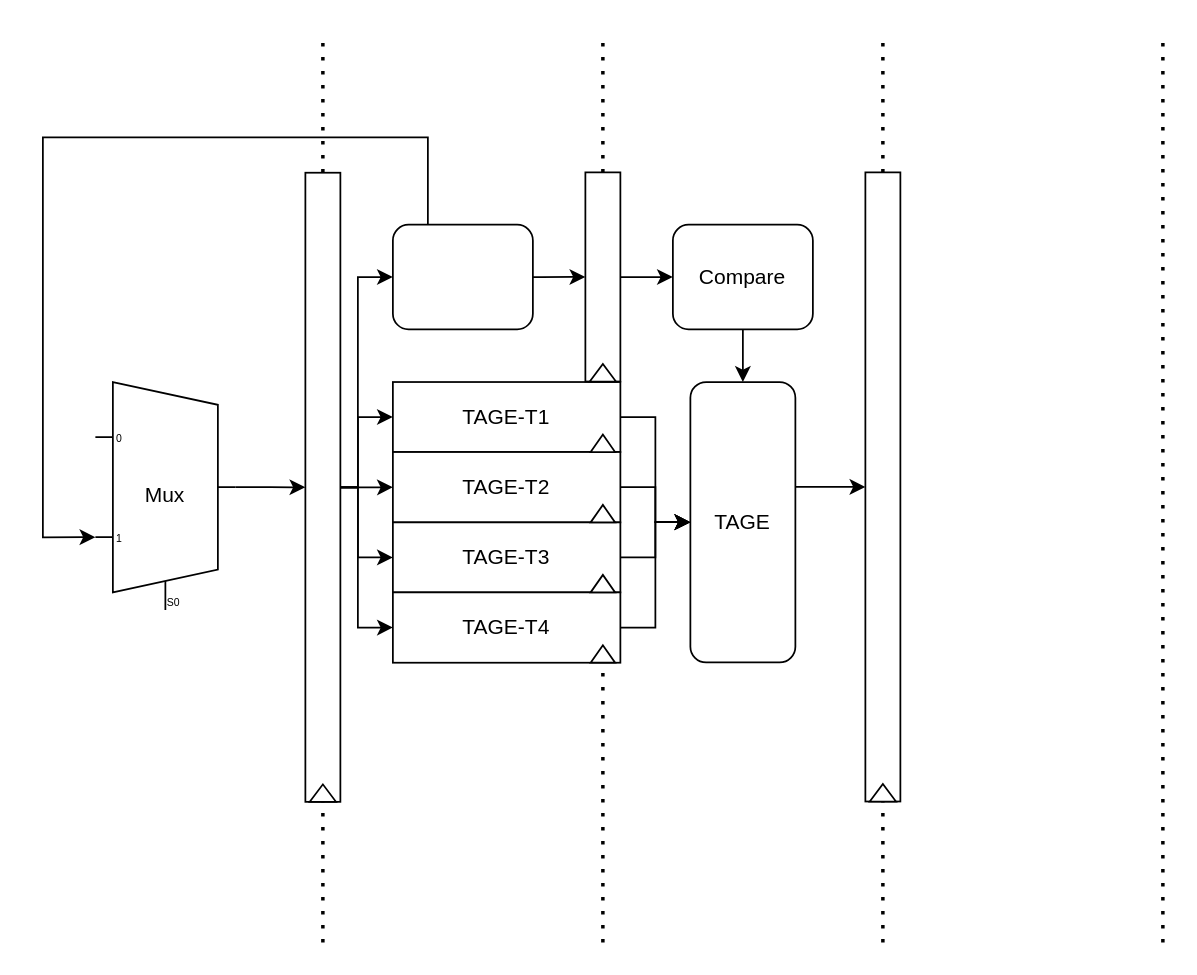
This 1197x975 diagram has some shape labels left out. The shapes that lost their labels are listed below. From the top down, each one's centre as x and y in pixels, then its label:
(x=462, y=276): L1-BTB
(x=322, y=486): F E T C H | R E Q
(x=882, y=486): B R I N F O & F E T C H R E Q
